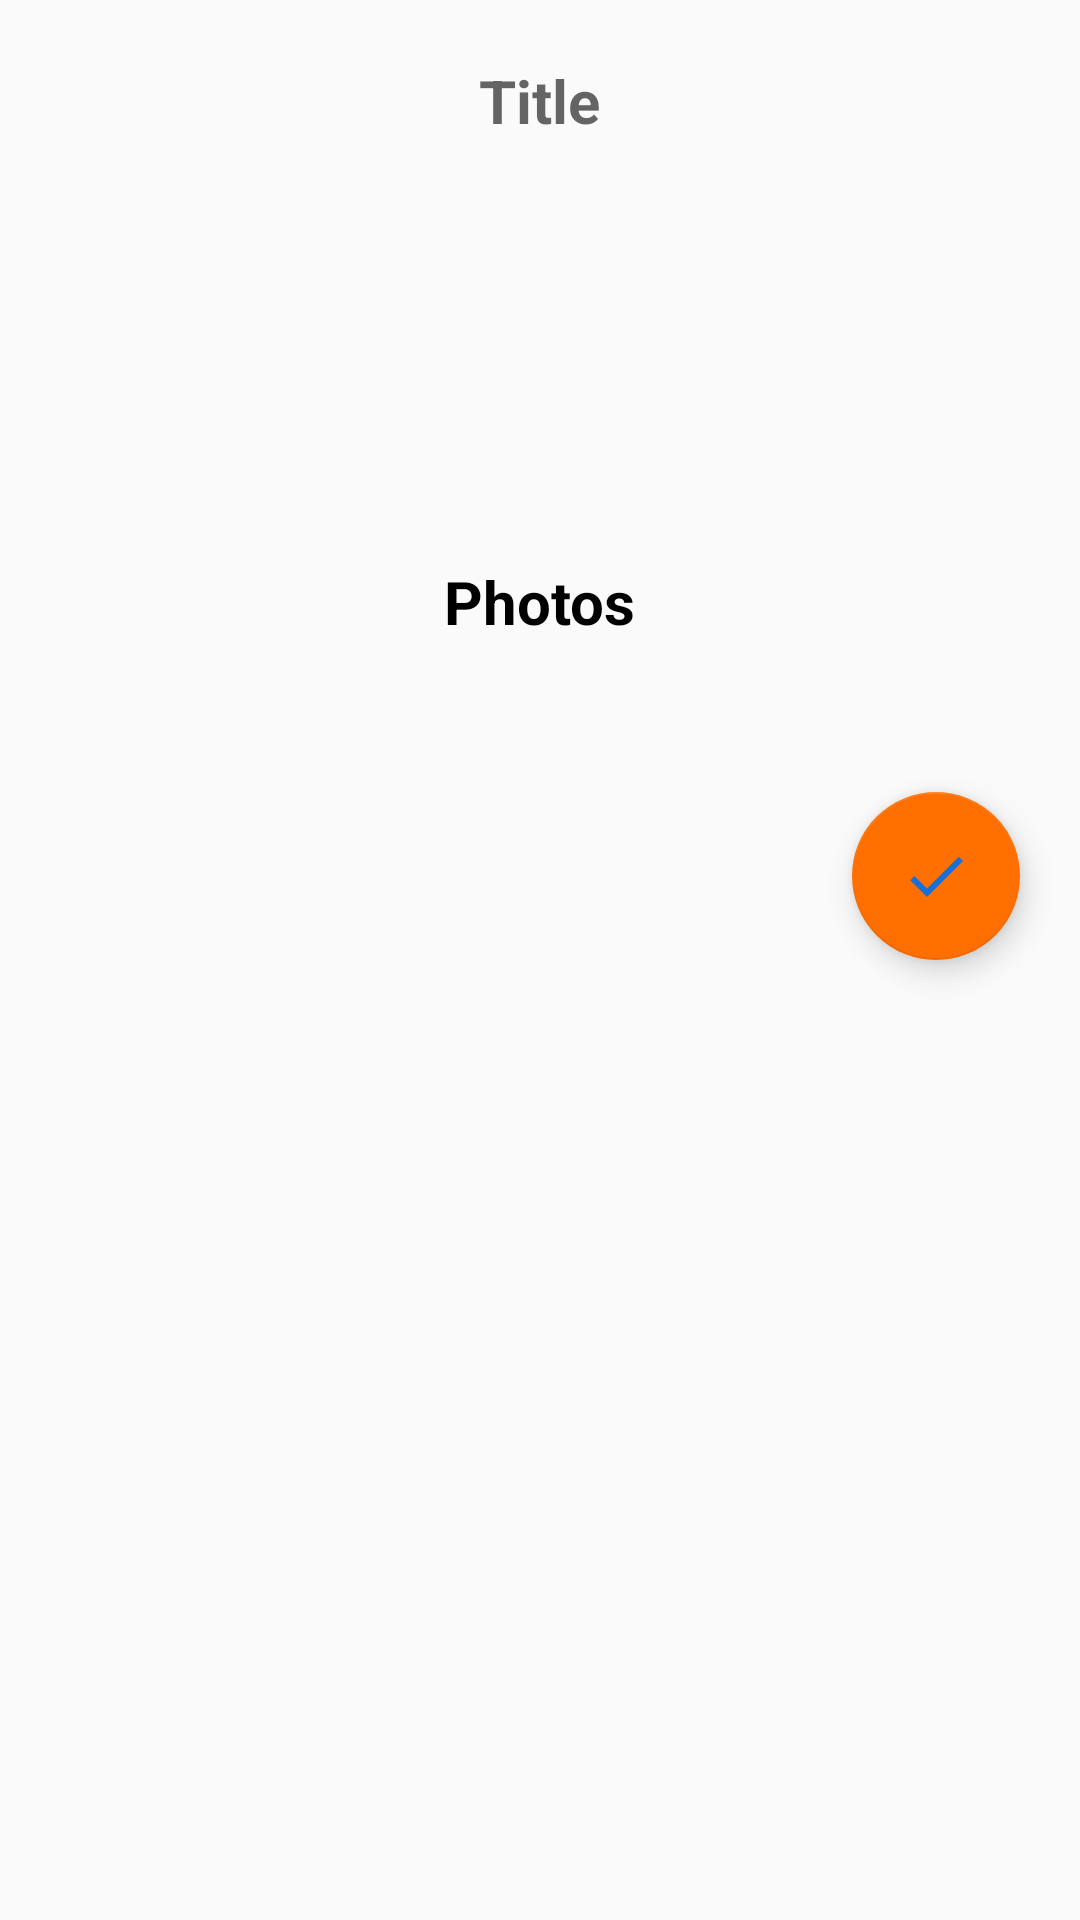

Icons on this 1080 × 1920 Android screen, each with its box as (x1, y1, x2, y2):
done: (852, 792, 1020, 960)
